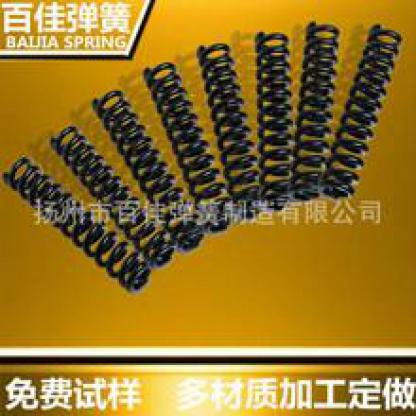FOD: (6, 157, 153, 295), (46, 122, 179, 271), (88, 87, 205, 253), (140, 61, 234, 233), (320, 19, 406, 200), (194, 40, 266, 221), (293, 18, 340, 201), (252, 28, 296, 214)
